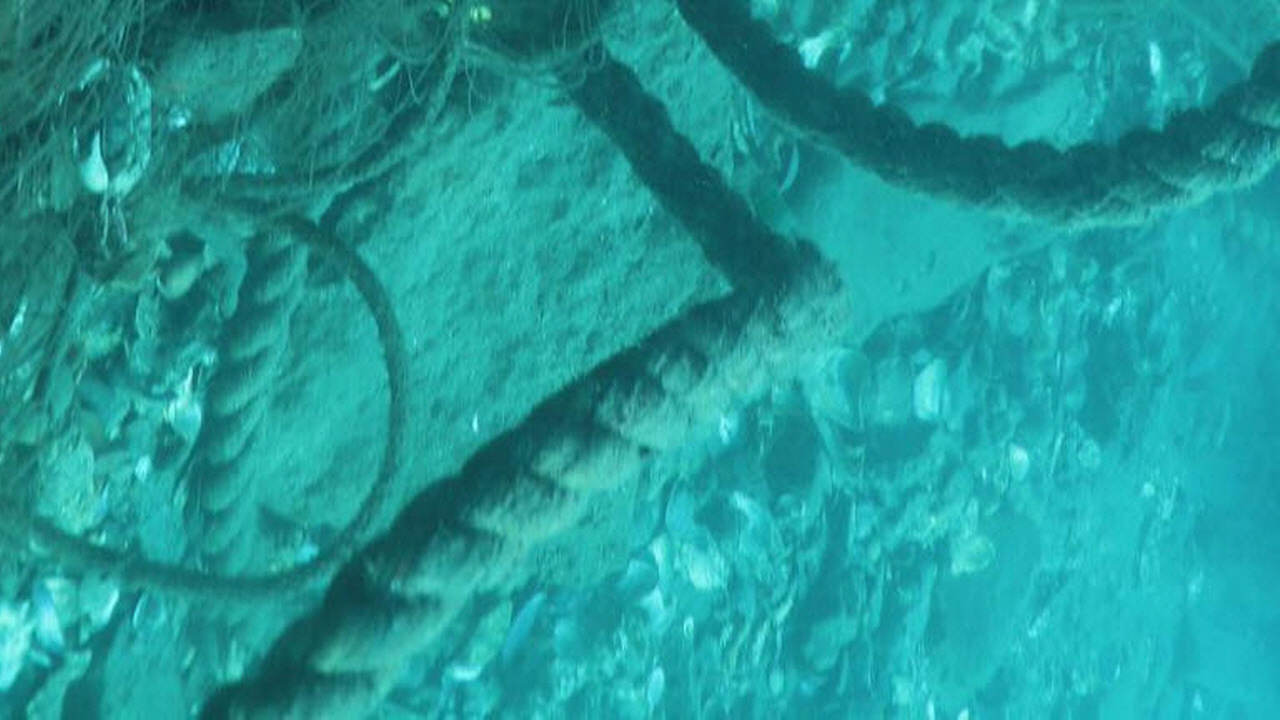bundle of ropes: (194, 1, 1280, 719)
